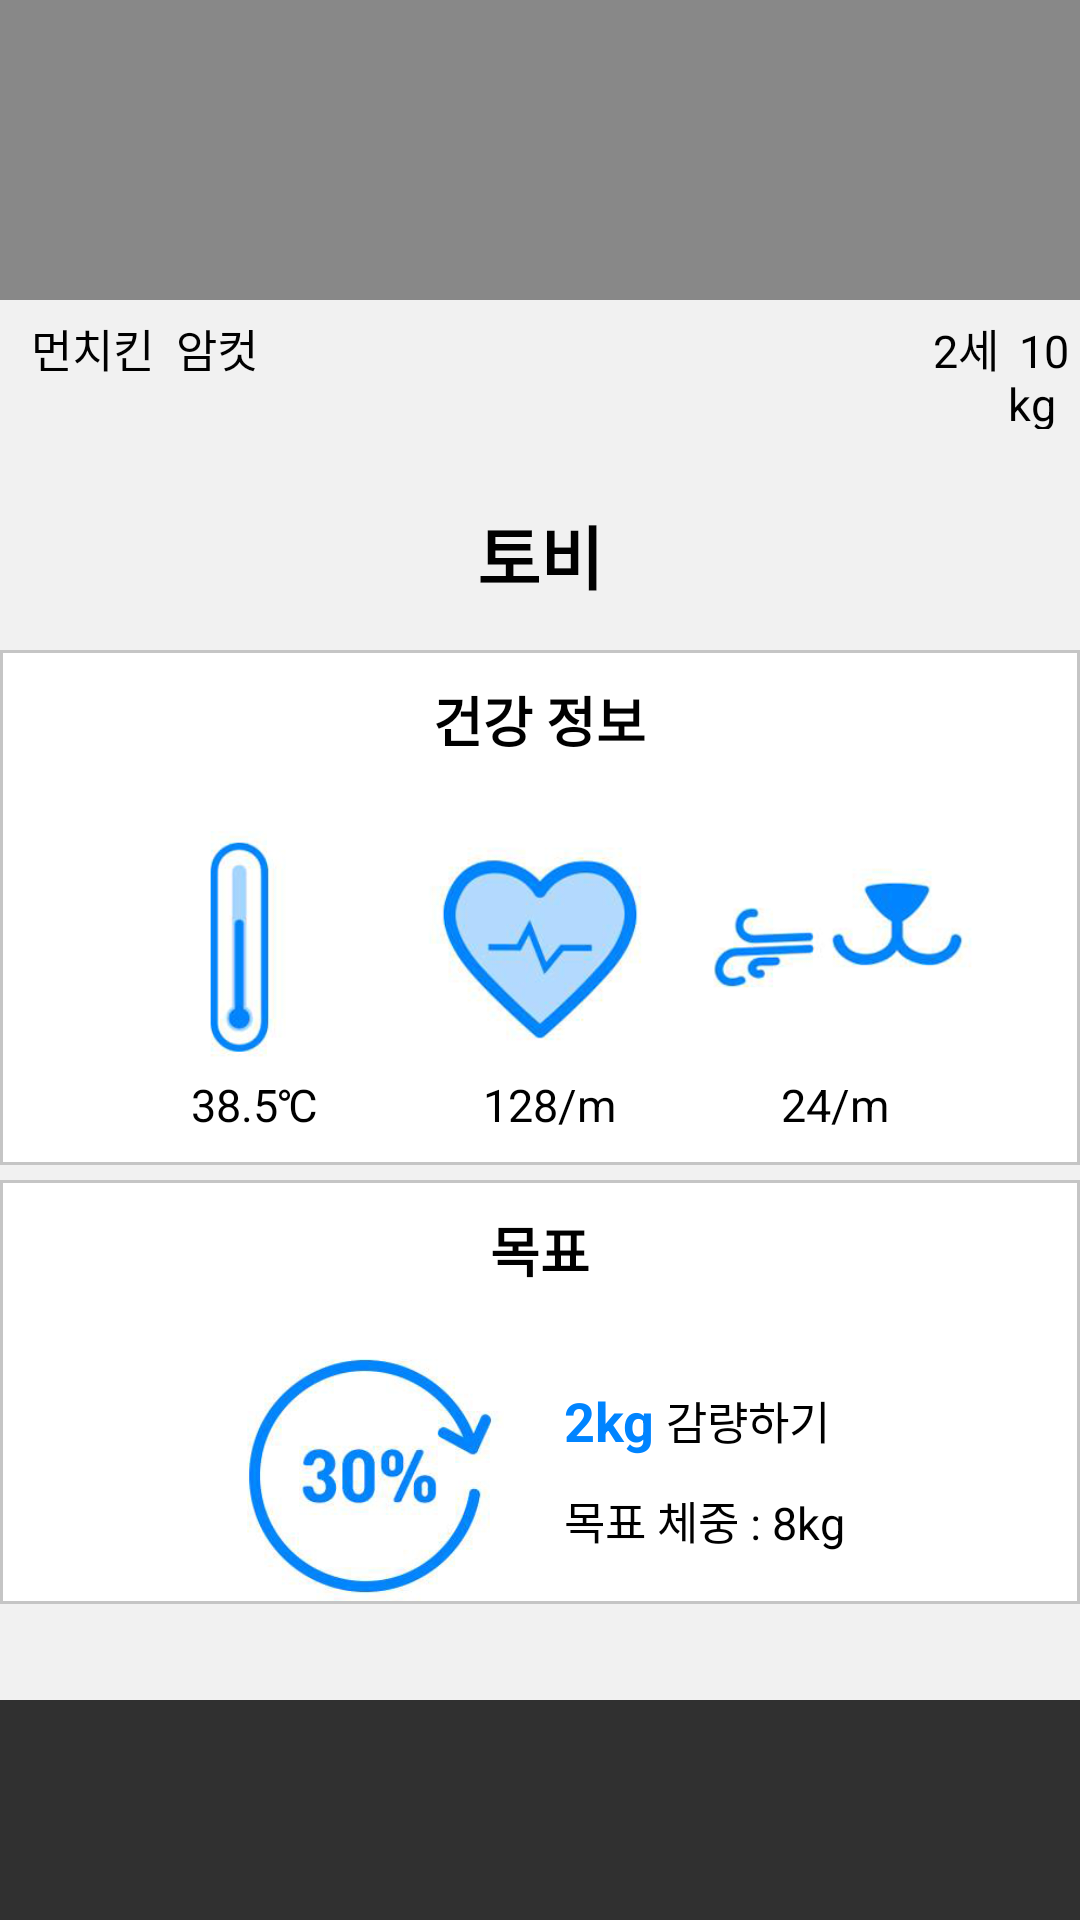

Icon bounding boxes for this 1080w x 1920h phone screenshot, format (x1, y1, x2, y2):
breathe: (714, 879, 967, 987)
goal: (247, 1359, 492, 1593)
heart: (441, 857, 641, 1040)
